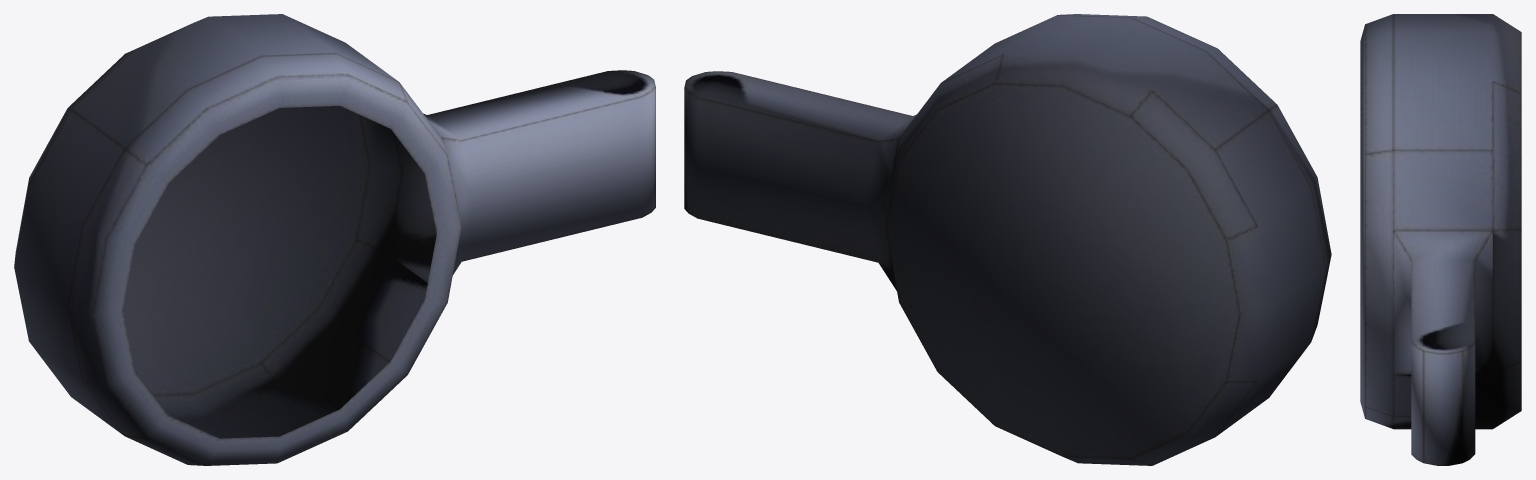
The model's file is buttonHolder.obj.
3 views of the same model, side by side, from view 1: azimuth 30°, elevation 25°; view 2: azimuth 150°, elevation 25°; view 3: azimuth 270°, elevation 25° (orthographic). The views are drawn at different scales.
Parts seen in each view (by area): view 1: buttonring005; view 2: buttonring005; view 3: buttonring005.
Boxes of the visible parts, x1,y1,x2,y2 form: buttonring005: (14, 14, 655, 465); buttonring005: (684, 14, 1331, 465); buttonring005: (1360, 14, 1521, 465).
Bounding box in the file's own units: 108 × 68.86 × 26.72.
1 material, 1 textured.
